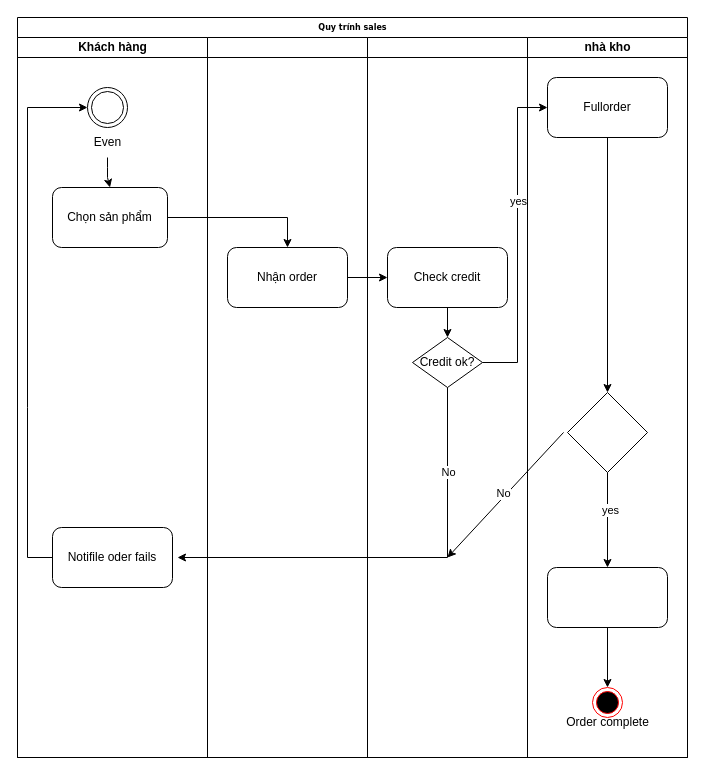
The diagram is 705 pixels wide and 775 high, and some of its shapes have lost their labels. Here are the shapes that lost their labels. From the top down, the box of each, then its label:
(206, 36, 368, 758): Nhân viên
(366, 36, 528, 758): thanh toán
(566, 392, 648, 472): Còn hàng ?
(546, 566, 668, 628): Send invoice
